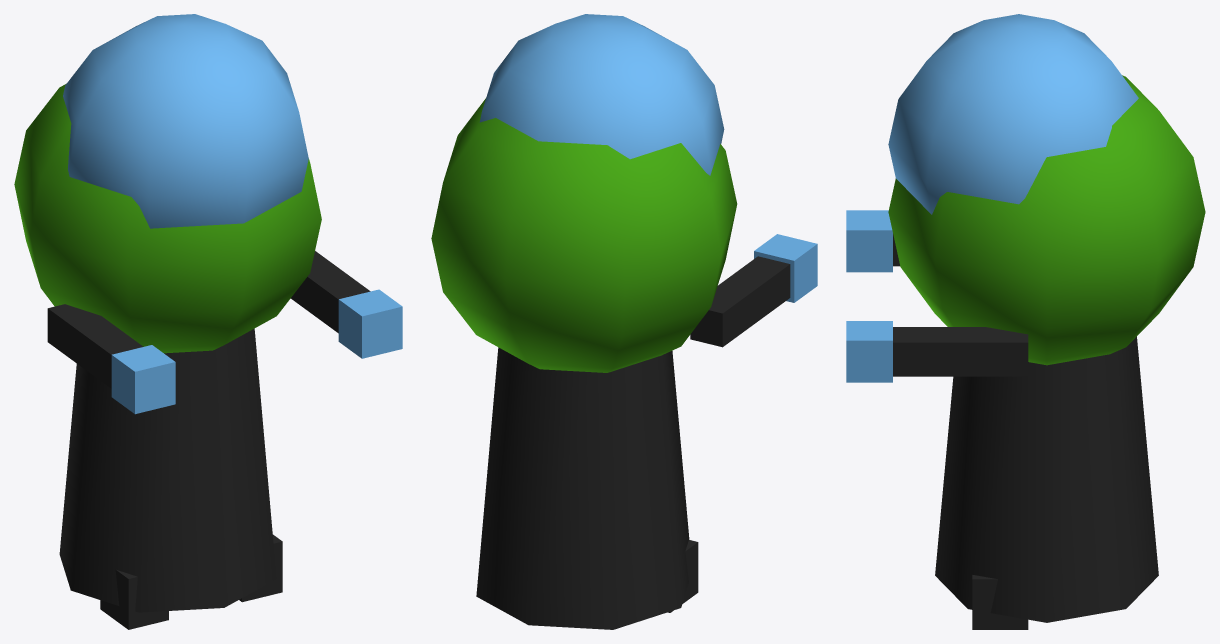
The model's file is AncientTreantA.glb.
3 renders of one model, left to right at view 1: azimuth 30°, elevation 25°; view 2: azimuth 150°, elevation 25°; view 3: azimuth 270°, elevation 25°, orthographic.
Visible parts, largest first — view 1: AncientTreantBody; view 2: AncientTreantBody; view 3: AncientTreantBody.
Boxes of the visible parts, left/top/right/bottom form: AncientTreantBody: left=14, top=14, right=402, bottom=629; AncientTreantBody: left=431, top=14, right=817, bottom=629; AncientTreantBody: left=846, top=14, right=1205, bottom=629.
Size of the model in its own units: 0.68 by 1.34 by 0.77.
